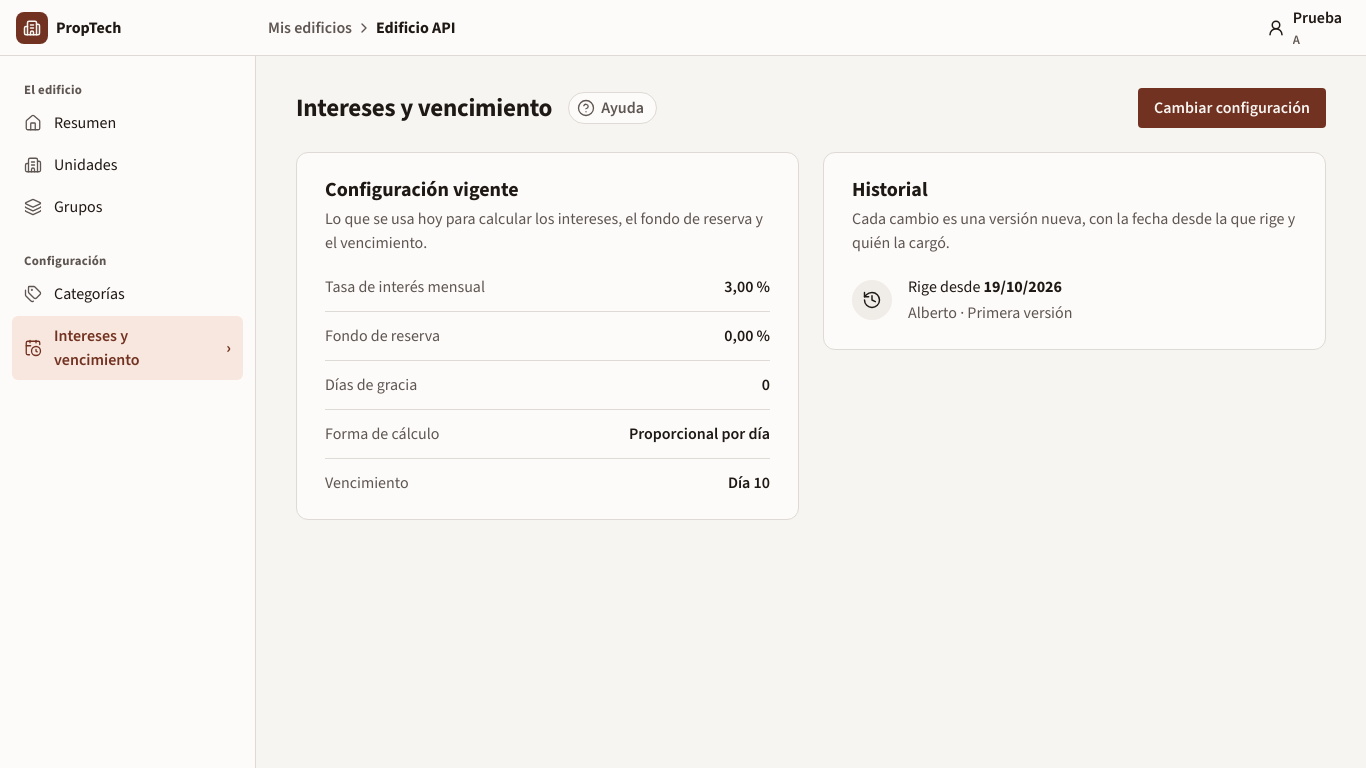
Test: PantallaConfiguracion › "Cambiar configuración" abre el panel con "rige desde" y el aviso de que la anterior no se borra
Click the button "Cambiar configuración". click: (1232, 108)
box: top-left (1138, 88), bottom-right (1326, 128)
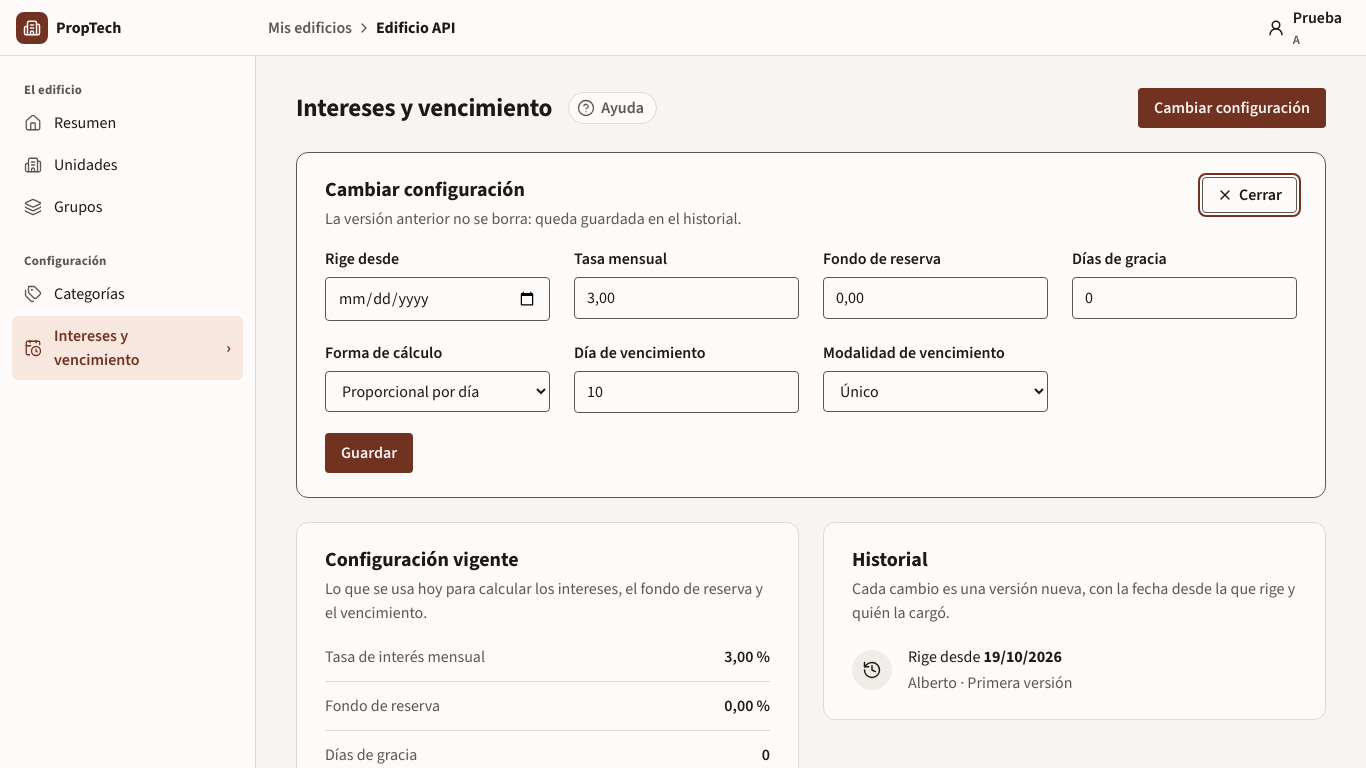
Expected: the date field labelled "Rige desde" is shown, top-left (325, 277), bottom-right (550, 321)
Expected: the text "La versión anterior no se borra" is shown, top-left (325, 208), bottom-right (742, 229)
Expected: the field labelled "Tasa mensual" holds "3,00", top-left (574, 277), bottom-right (799, 319)
